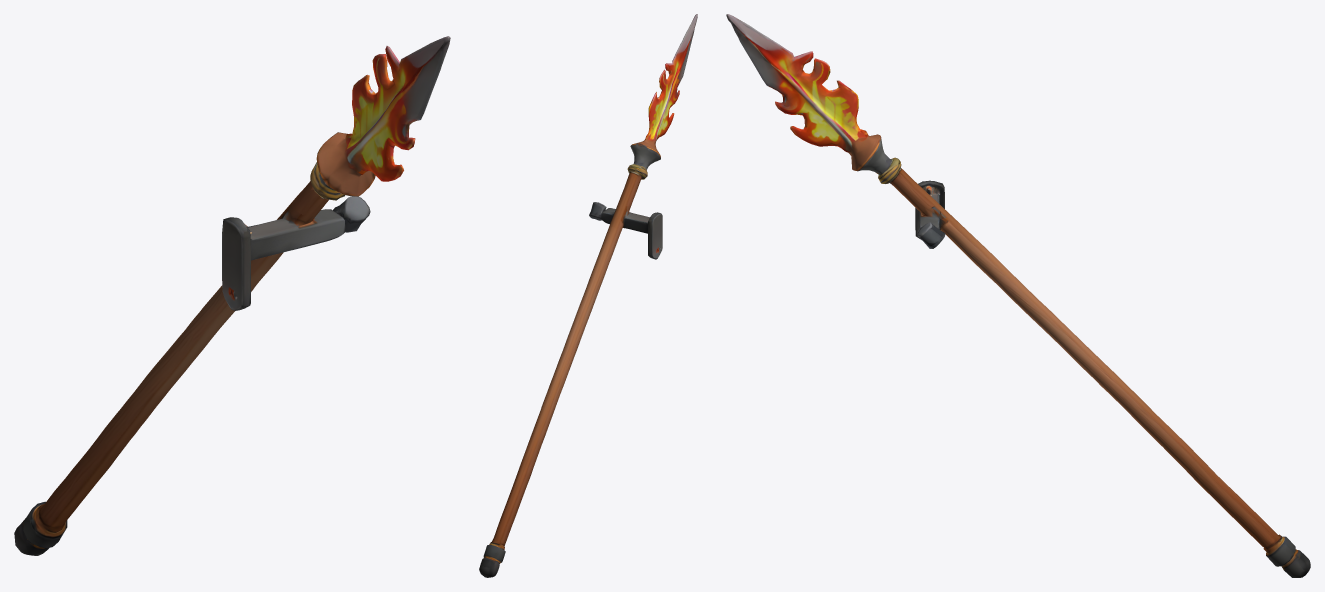
File: flaming+spear+3d+model.obj
3 renders of one model, left to right at view 1: azimuth 30°, elevation 25°; view 2: azimuth 150°, elevation 25°; view 3: azimuth 270°, elevation 25°, orthographic. The views are drawn at different scales.
Parts seen in each view (by area): view 1: tripo_node_461d7499-187e-4735-b0b2-374690831348; view 2: tripo_node_461d7499-187e-4735-b0b2-374690831348; view 3: tripo_node_461d7499-187e-4735-b0b2-374690831348.
Boxes of the visible parts, x1=… form: tripo_node_461d7499-187e-4735-b0b2-374690831348: x1=14, y1=36, x2=450, y2=555; tripo_node_461d7499-187e-4735-b0b2-374690831348: x1=479, y1=14, x2=697, y2=577; tripo_node_461d7499-187e-4735-b0b2-374690831348: x1=726, y1=14, x2=1310, y2=577.
Bounding box in the file's own units: 0.1695 × 0.9998 × 0.9402.
